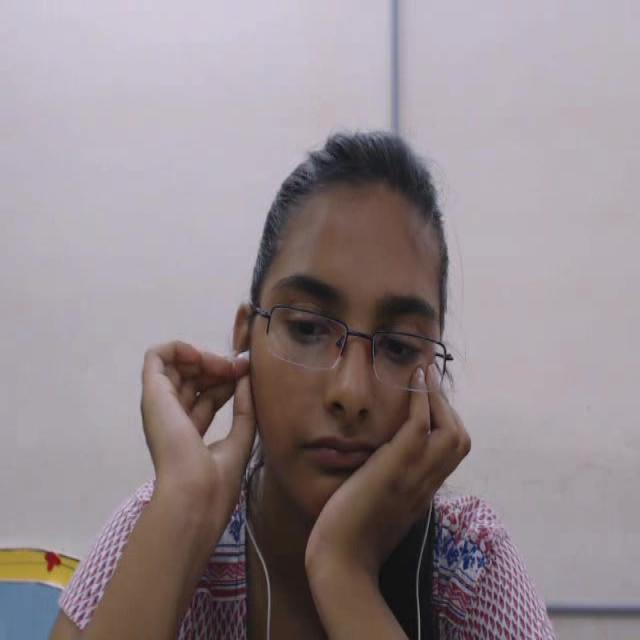Bored: (211, 100, 524, 586)
